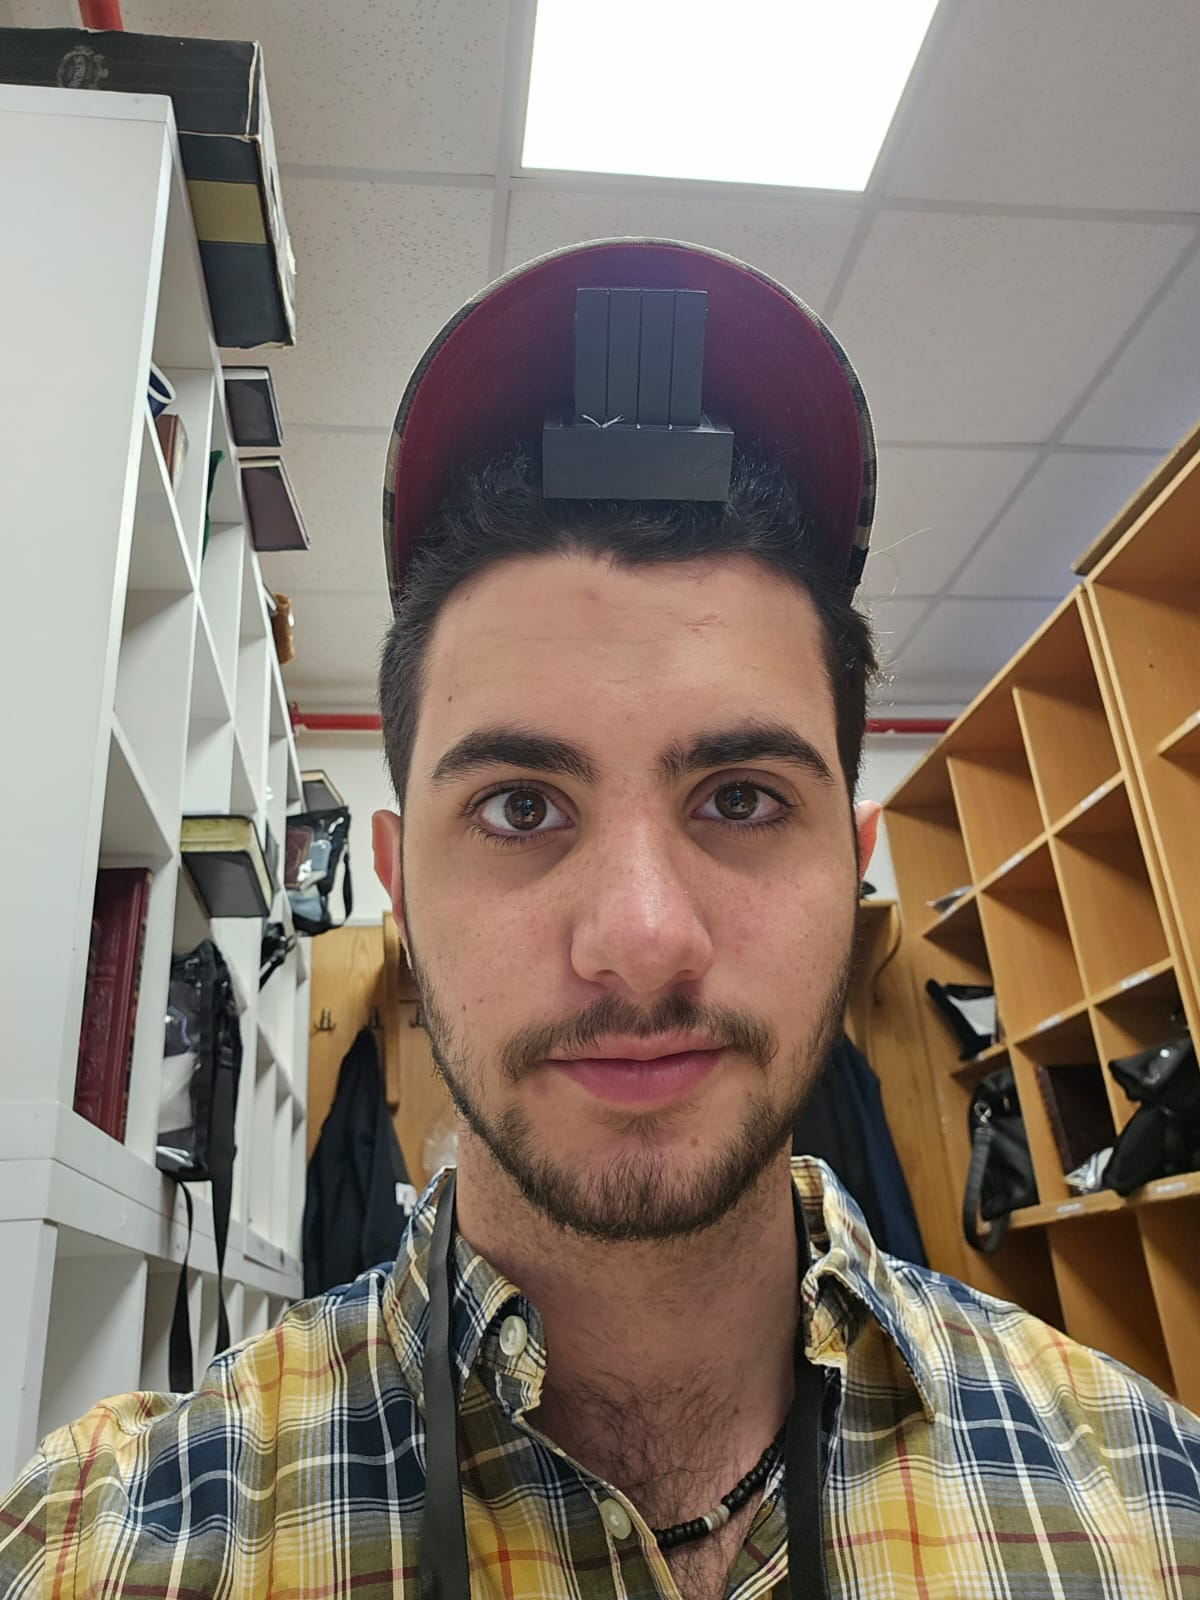tefillin: (542, 277, 734, 503)
